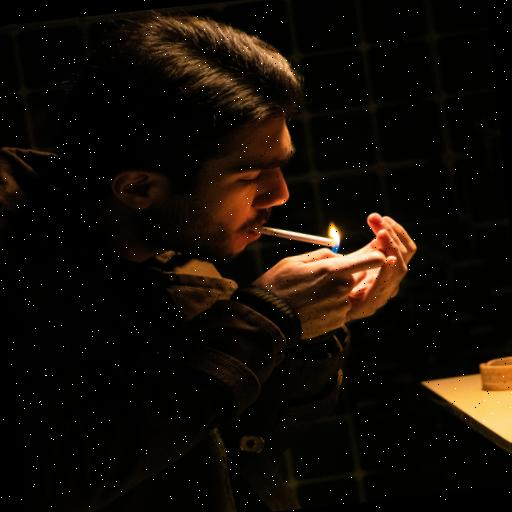terdeteksi merokok: (223, 136, 366, 286)
